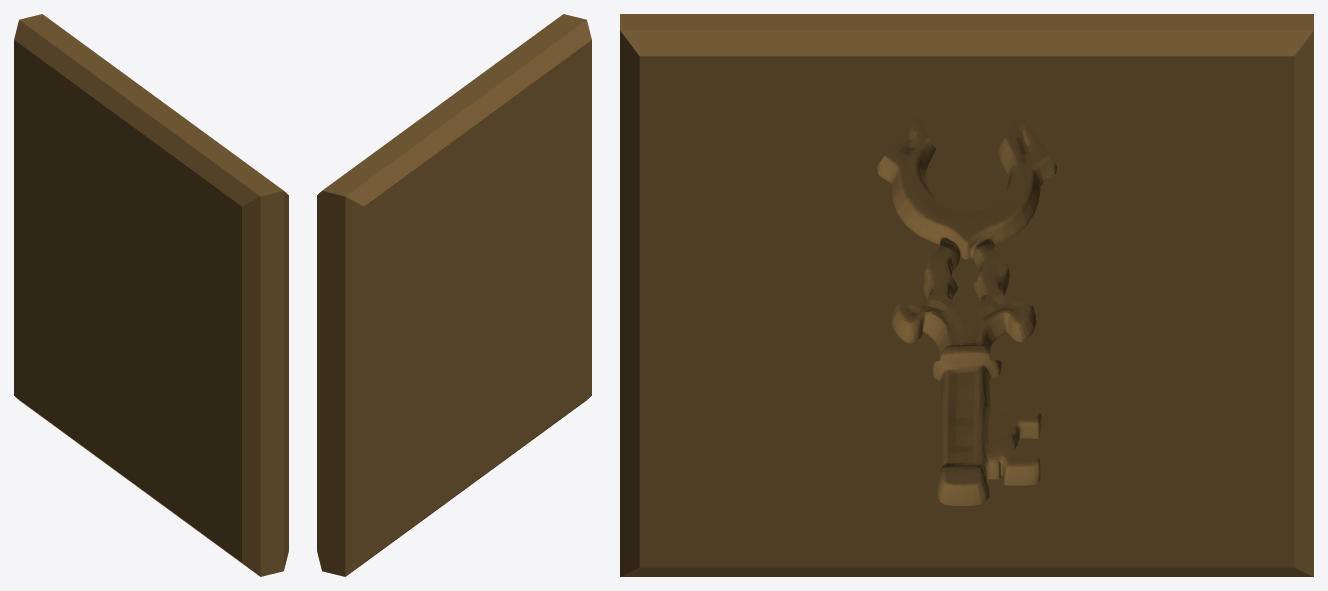
Rendered from KeyPlateKey6.fbx.
The picture shows the model from 3 angles, left to right: view 1: azimuth 30°, elevation 25°; view 2: azimuth 150°, elevation 25°; view 3: azimuth 270°, elevation 25°; orthographic projection. The views are drawn at different scales.
Parts seen in each view (by area): view 1: polySurface2; view 2: polySurface2; view 3: polySurface2.
Boxes of the visible parts, left/top/right/bottom form: polySurface2: left=14, top=14, right=288, bottom=576; polySurface2: left=317, top=14, right=591, bottom=576; polySurface2: left=620, top=14, right=1313, bottom=576.
Size of the model in its own units: 0.583 by 4.53 by 5.21.
